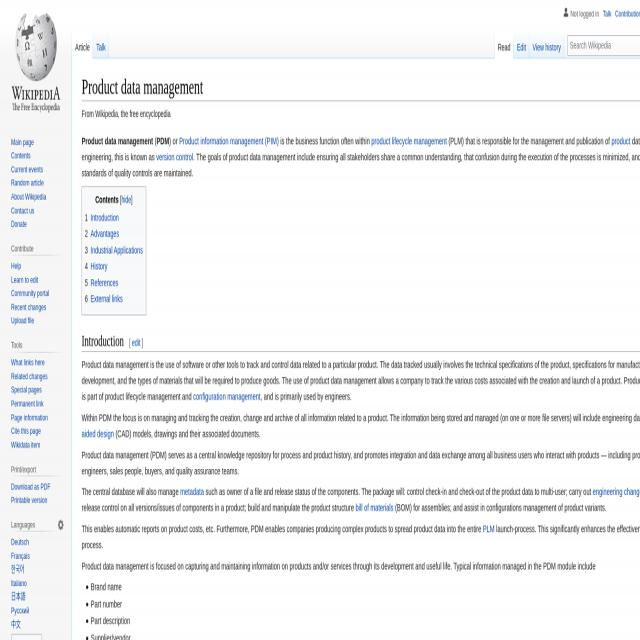button: (4, 0, 68, 117), (529, 29, 564, 59), (560, 3, 601, 24), (72, 30, 93, 59), (494, 29, 514, 59), (514, 29, 530, 59), (93, 29, 109, 59), (58, 519, 64, 531)
field: (567, 36, 640, 55)
